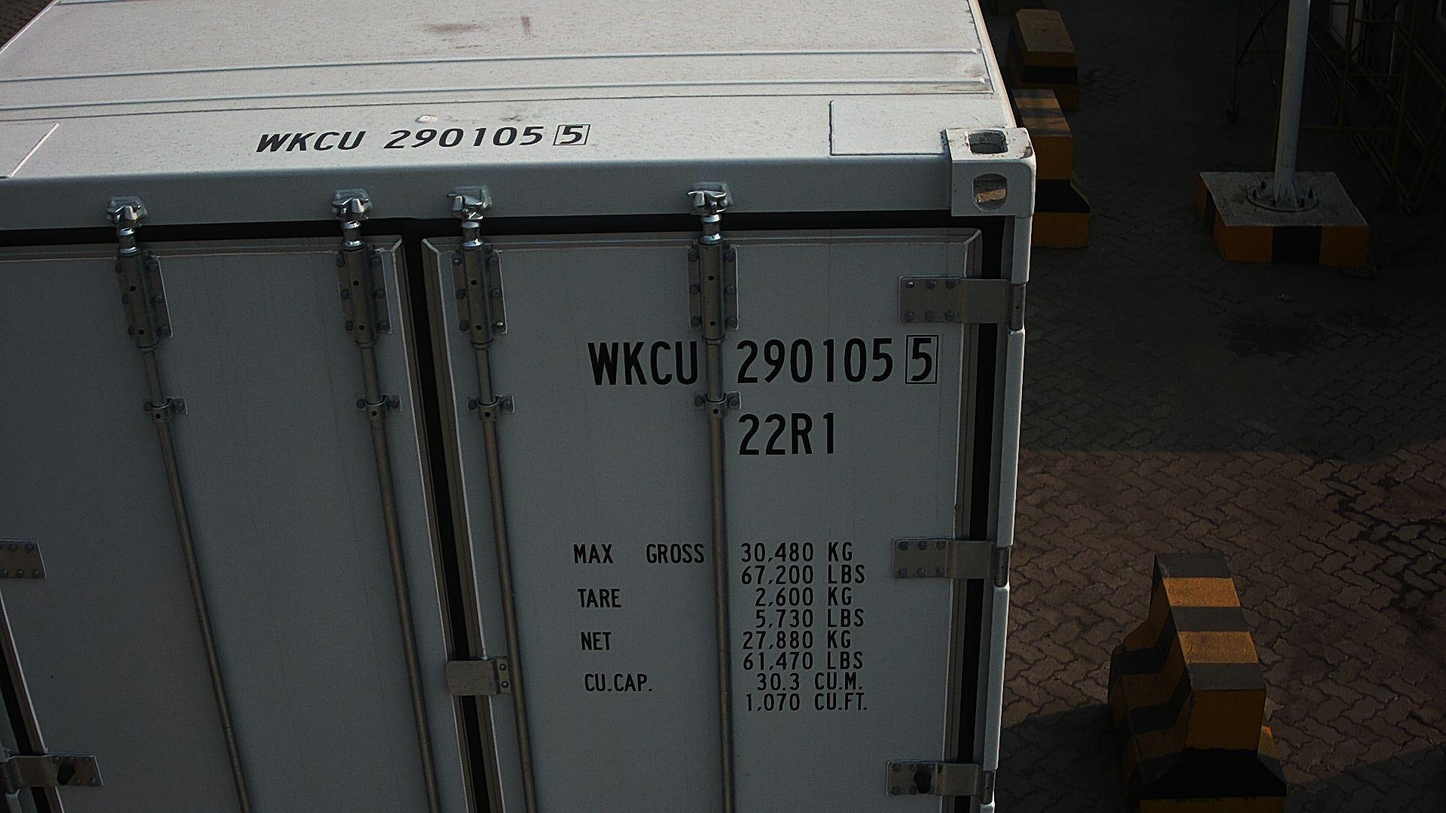container-numbers: (581, 332, 943, 391), (247, 120, 596, 154), (735, 408, 841, 460)
